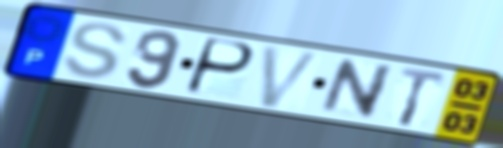9: (125, 28, 183, 92)
N: (316, 58, 398, 121)
P: (181, 35, 259, 98)
S: (60, 20, 131, 81)
T: (397, 65, 449, 129)
V: (257, 44, 326, 110)
